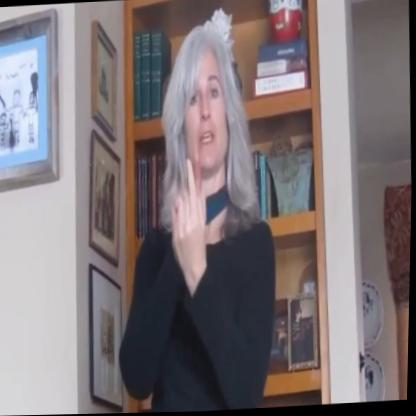NiceToMeetYou: (159, 147, 220, 285)
